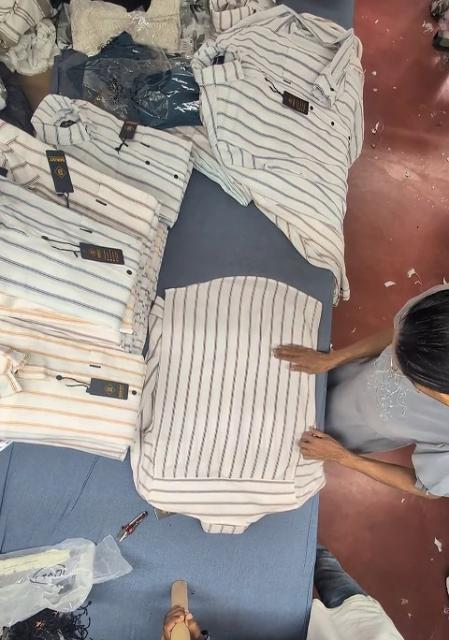new-garment: (133, 276, 324, 532)
